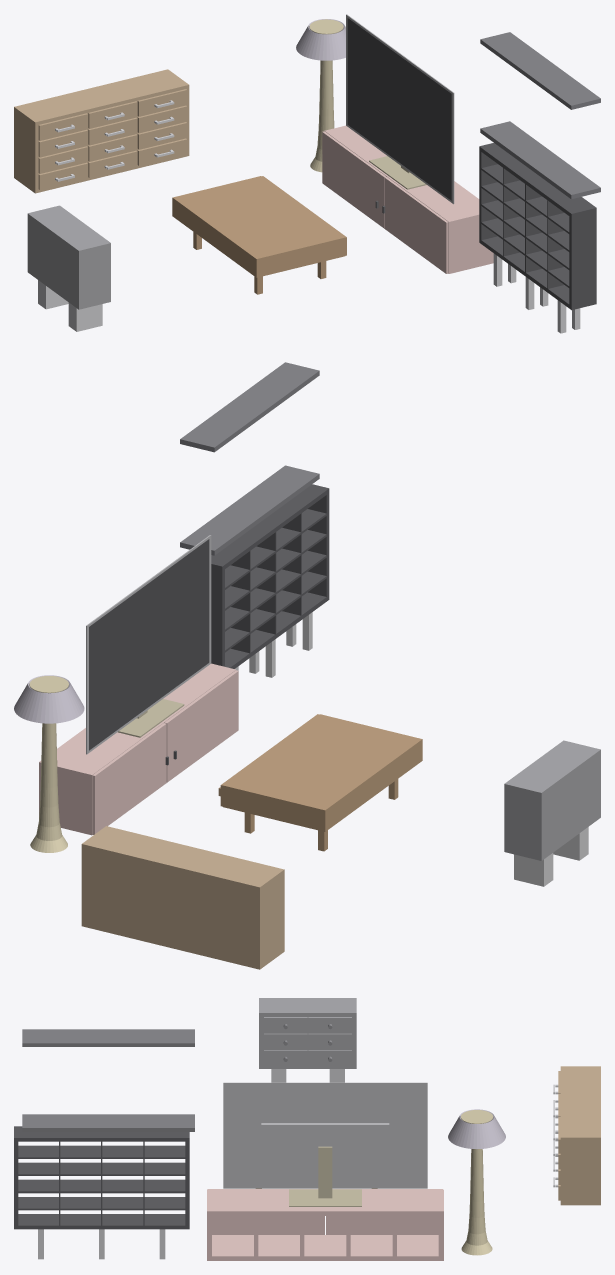
File: agent_scene.glb
3 views of the same model, one above another, from view 1: azimuth 30°, elevation 25°; view 2: azimuth 150°, elevation 25°; view 3: azimuth 270°, elevation 25° (orthographic). The views are drawn at different scales.
Visible parts, largest first — view 1: tv_screen_front, ct_top, cs_door_s, dr_panel_4, cs_door_n, slab_a, slab_b, cab_back, cu_side_s, cs_top, cab_side_s, cs_end_s (+34 smaller); view 2: tv_screen_front, dr_back, ct_top, cs_door_n, cs_door_s, slab_b, slab_a, dr_panel_4, cab_back, cs_top, cab_side_n, floor_lamp_column (+20 smaller); view 3: tv_screen, tv_backbox, cs_bottom, cs_top, slab_a, slab_b, dr_side_e, dr_panel_4, cu_panel_0, cu_panel_2, cu_panel_1, cu_panel_3 (+21 smaller).
Boxes of the visible parts, x1=… form: tv_screen_front: x1=347, y1=18, x2=451, y2=200; ct_top: x1=172, y1=176, x2=345, y2=261; cs_door_s: x1=384, y1=177, x2=448, y2=273; dr_panel_4: x1=19, y1=71, x2=185, y2=124; cs_door_n: x1=322, y1=131, x2=386, y2=228; slab_a: x1=480, y1=121, x2=600, y2=199; slab_b: x1=480, y1=32, x2=600, y2=109; cab_back: x1=30, y1=215, x2=77, y2=307; cu_side_s: x1=569, y1=206, x2=596, y2=310; cs_top: x1=327, y1=127, x2=479, y2=219; cab_side_s: x1=76, y1=241, x2=110, y2=309; cs_end_s: x1=446, y1=212, x2=493, y2=273; tv_screen_front: x1=89, y1=539, x2=209, y2=750; dr_back: x1=86, y1=844, x2=255, y2=968; ct_top: x1=222, y1=714, x2=422, y2=812; cs_door_n: x1=92, y1=723, x2=166, y2=834; cs_door_s: x1=164, y1=670, x2=238, y2=782; slab_b: x1=180, y1=362, x2=319, y2=452; slab_a: x1=180, y1=465, x2=319, y2=555; dr_panel_4: x1=88, y1=827, x2=279, y2=885; cab_back: x1=543, y1=751, x2=597, y2=858; cs_top: x1=57, y1=666, x2=232, y2=772; cab_side_n: x1=504, y1=781, x2=544, y2=860; floor_lamp_column: x1=30, y1=723, x2=67, y2=852; tv_screen: x1=223, y1=1082, x2=427, y2=1188; tv_backbox: x1=261, y1=1123, x2=389, y2=1168; cs_bottom: x1=212, y1=1235, x2=438, y2=1260; cs_top: x1=212, y1=1190, x2=438, y2=1215; slab_a: x1=22, y1=1114, x2=194, y2=1131; slab_b: x1=22, y1=1029, x2=194, y2=1046; dr_side_e: x1=560, y1=1136, x2=600, y2=1205; dr_panel_4: x1=560, y1=1068, x2=599, y2=1135; cu_panel_0: x1=18, y1=1214, x2=185, y2=1229; cu_panel_2: x1=18, y1=1179, x2=185, y2=1193; cu_panel_1: x1=18, y1=1197, x2=185, y2=1210; cu_panel_3: x1=18, y1=1162, x2=185, y2=1175.
Size of the model in its own units: 3.77 by 2.12 by 5.08.
